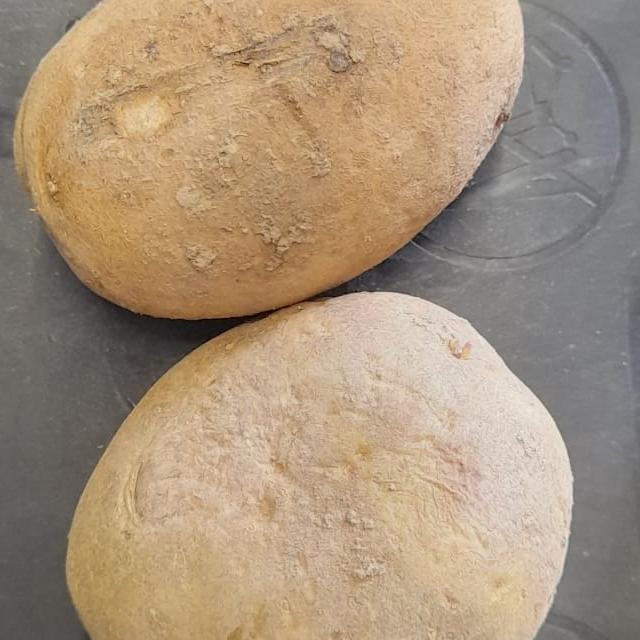potato: (63, 256, 613, 640), (0, 0, 563, 320)
